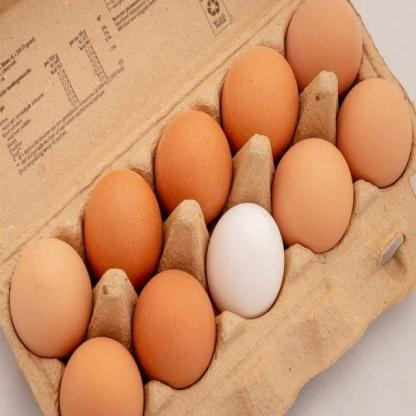egg: (195, 178, 298, 338), (74, 154, 172, 294), (3, 226, 95, 364), (133, 258, 218, 393), (268, 124, 351, 256), (150, 103, 236, 219), (335, 76, 415, 196), (223, 43, 300, 164), (287, 2, 377, 96), (51, 334, 156, 412)
